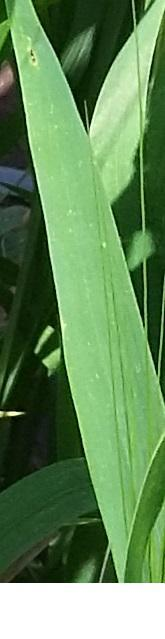Wheat: (55, 164, 113, 265), (61, 277, 130, 346), (120, 488, 165, 583), (98, 426, 165, 489), (86, 353, 143, 413)
